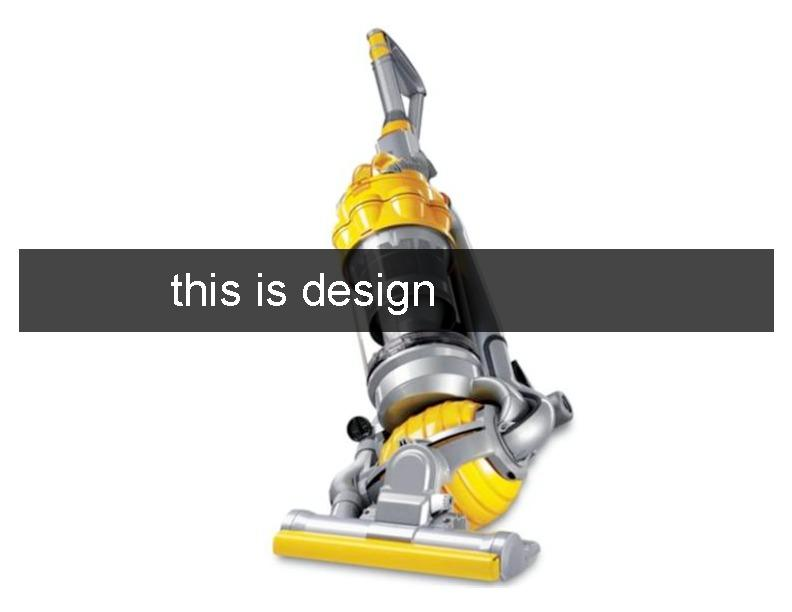title: (153, 259, 491, 341)
